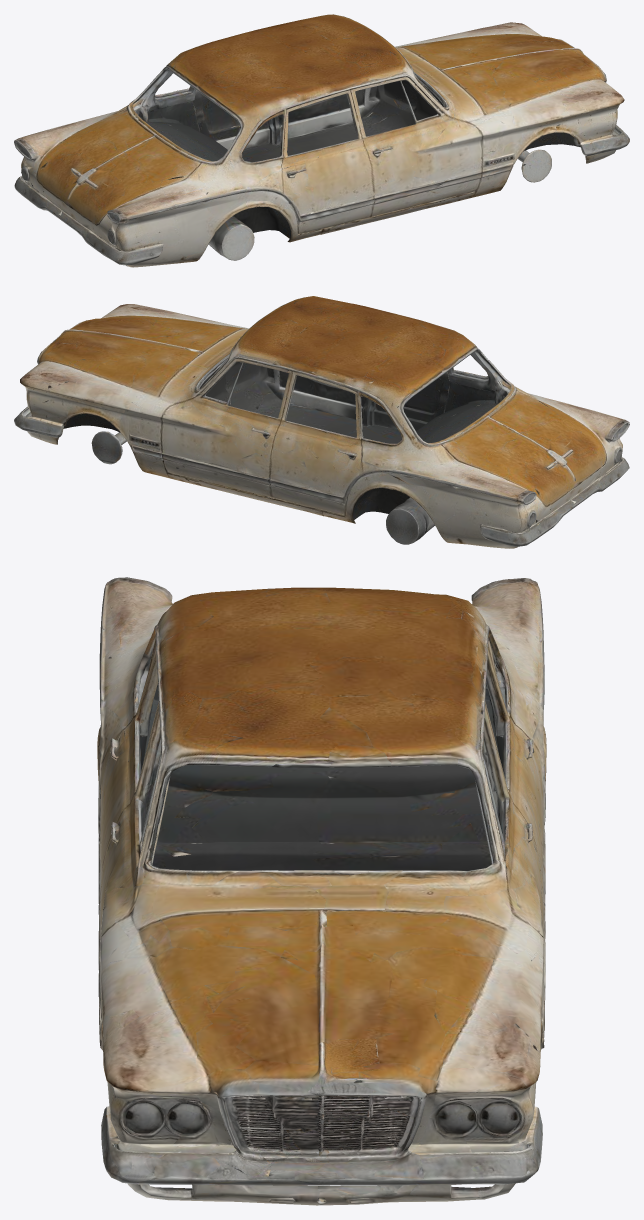
File: rustbelt.glb
3 views of the same model, one above another, from view 1: azimuth 30°, elevation 25°; view 2: azimuth 150°, elevation 25°; view 3: azimuth 270°, elevation 25° (orthographic). The views are drawn at different scales.
Parts seen in each view (by area): view 1: rustbelt; view 2: rustbelt; view 3: rustbelt.
Boxes of the visible parts, <box> form: rustbelt: <box>14,14,629,267</box>; rustbelt: <box>14,296,629,548</box>; rustbelt: <box>97,577,546,1205</box>.
Bounding box in the file's own units: 4.9 × 1.36 × 1.83.
Materials: 1 (1 with a texture image).
